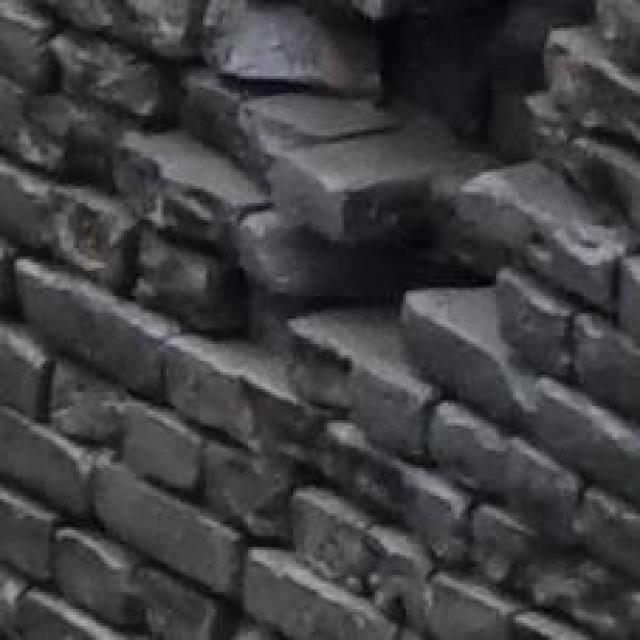Crack: (139, 0, 625, 476)
